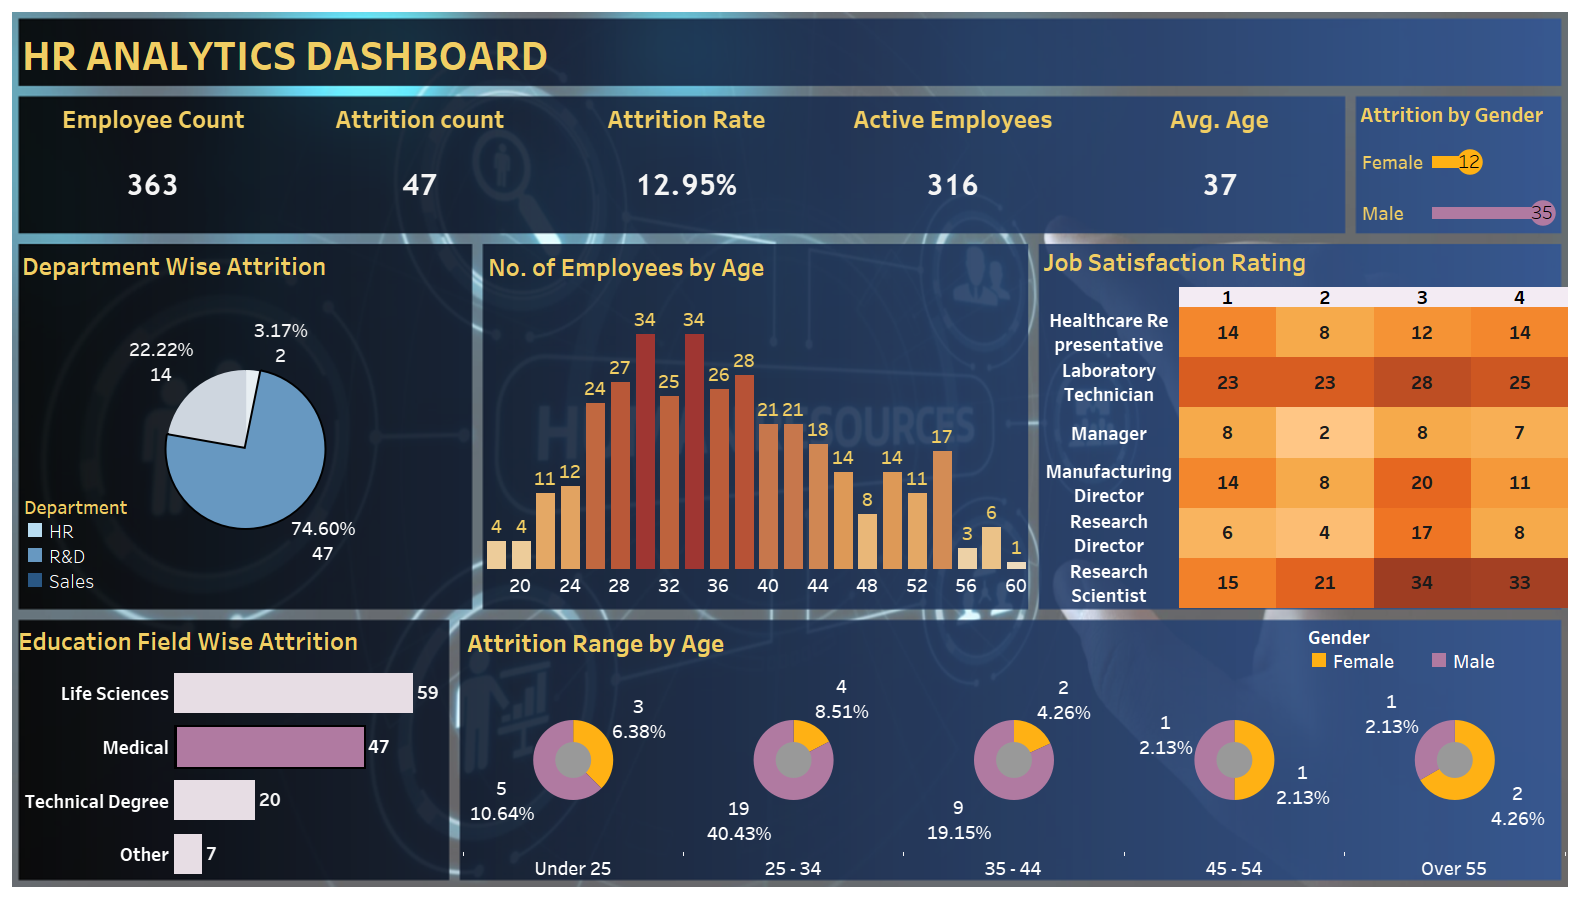

The page's visual inventory and layout, read from the dashboard file:
{"tool":"tableau","page":{"name":"HR ANalytics dashboard","canvas":[1580,900],"ordinal":0},"visuals":[{"type":"image","param":"Image/HR background.pptx.png","box":[8,8,1564,884]},{"type":"text","box":[18,12,899,84]},{"type":"worksheet","title":"Attrition By Gender","mark":"Automatic","rows":["Gender"],"cols":["Calculation_1361775992679575553","Calculation_1361775992679575553"],"box":[1356,94,206,144]},{"type":"worksheet","title":"KPI","mark":"Automatic","box":[20,95,1333,140]},{"type":"worksheet","title":"Job Satisfactin","mark":"Square","rows":["Job Role"],"cols":["Job Satisfaction"],"box":[1039,239,529,369]},{"type":"worksheet","title":"Department wise Attrition","mark":"Pie","box":[18,243,455,364]},{"type":"worksheet","title":"number of Employee by agegroup","mark":"Automatic","rows":["Employee Count"],"cols":["Age (bin)"],"box":[484,244,545,366]},{"type":"legend","title":"Department wise Attrition","param":"[federated.0qlyg200at52zy1gh4psp1nz1kom].[none:Department:nk]","box":[23,492,118,115]},{"type":"worksheet","title":"Education Field Wise Attrition","mark":"Automatic","rows":["Education Field"],"cols":["Calculation_1361775992679575553"],"box":[14,618,443,263]},{"type":"worksheet","title":"Attrition range by gender","mark":"Pie","rows":["Calculation_1361775992731549703","Calculation_1361775992731549703"],"cols":["CF_age band"],"box":[463,620,1102,263]},{"type":"legend","title":"Attrition range by gender","param":"[federated.0qlyg200at52zy1gh4psp1nz1kom].[none:Gender:nk]","box":[1307,622,254,62]}]}

Visuals, with their boxes in screenshot pixels (x1, y1, x2, y2), scaled from the page's 1580x900 canvas onto the 1580x900 screenshot:
image: bbox(8, 8, 1572, 892)
text: bbox(18, 12, 917, 96)
"Attrition By Gender" worksheet: bbox(1356, 94, 1562, 238)
"KPI" worksheet: bbox(20, 95, 1353, 235)
"Job Satisfactin" worksheet (Square marks): bbox(1039, 239, 1568, 608)
"Department wise Attrition" worksheet (Pie marks): bbox(18, 243, 473, 607)
"number of Employee by agegroup" worksheet: bbox(484, 244, 1029, 610)
"Department wise Attrition" legend: bbox(23, 492, 141, 607)
"Education Field Wise Attrition" worksheet: bbox(14, 618, 457, 881)
"Attrition range by gender" worksheet (Pie marks): bbox(463, 620, 1565, 883)
"Attrition range by gender" legend: bbox(1307, 622, 1561, 684)
